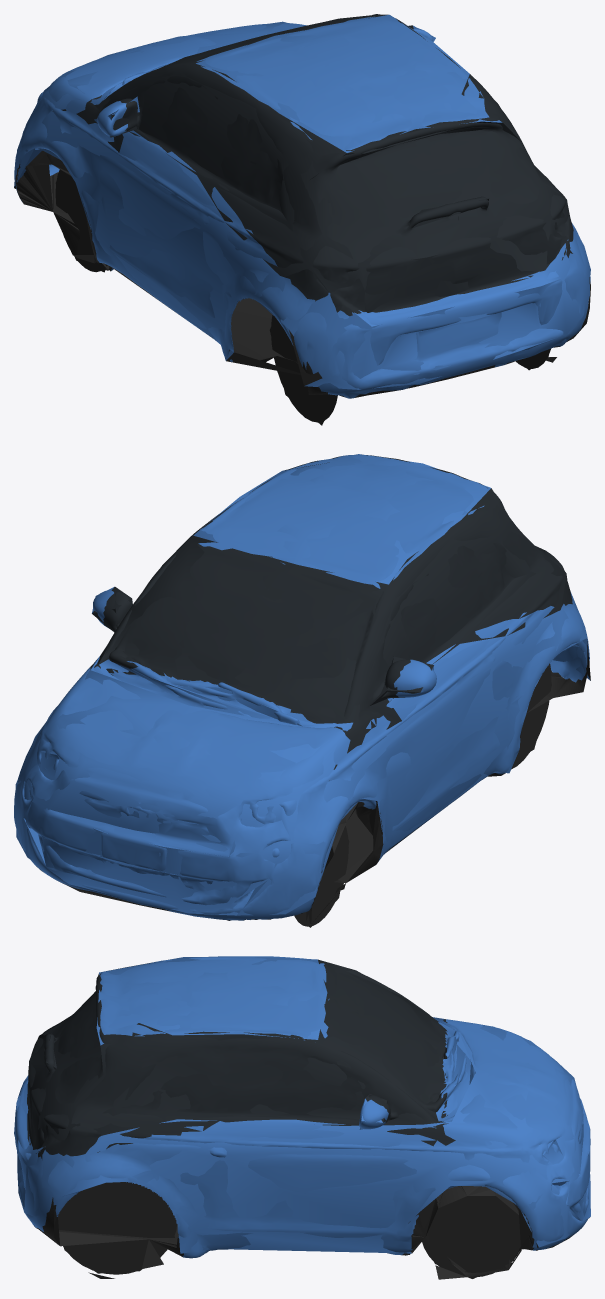
The model's file is fiat-500e.glb.
3 views of the same model, one above another, from view 1: azimuth 30°, elevation 25°; view 2: azimuth 150°, elevation 25°; view 3: azimuth 270°, elevation 25° (orthographic). The views are drawn at different scales.
Visible parts, largest first — view 1: body, far; view 2: body, far; view 3: body, far.
Boxes of the visible parts, x1,y1,x2,y2 form: body: (14,14,590,422); far: (14,14,590,425); body: (14,454,589,926); far: (15,454,590,927); body: (14,956,590,1279); far: (14,957,590,1278).
Size of the model in its own units: 2.11 by 1.69 by 3.65.
